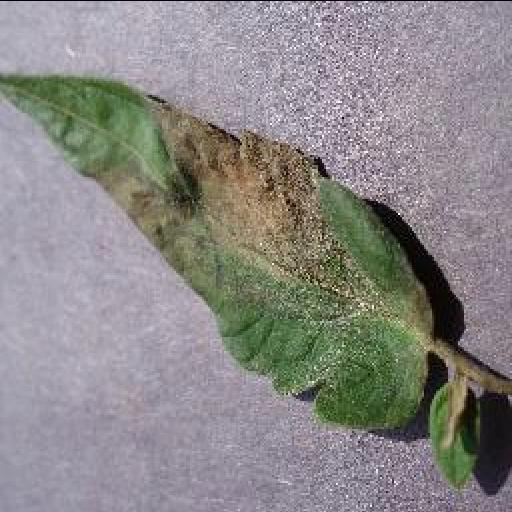disease_tomato: (0, 74, 432, 436)
